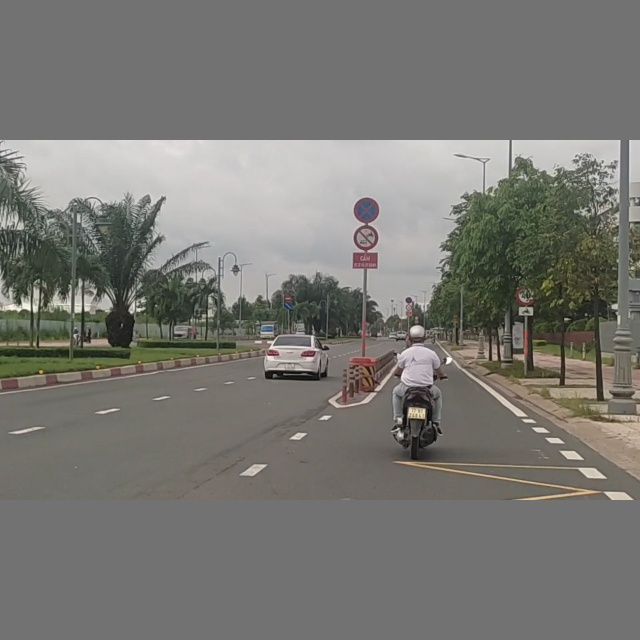P.111: (351, 224, 380, 250)
P.130: (353, 196, 379, 223)
